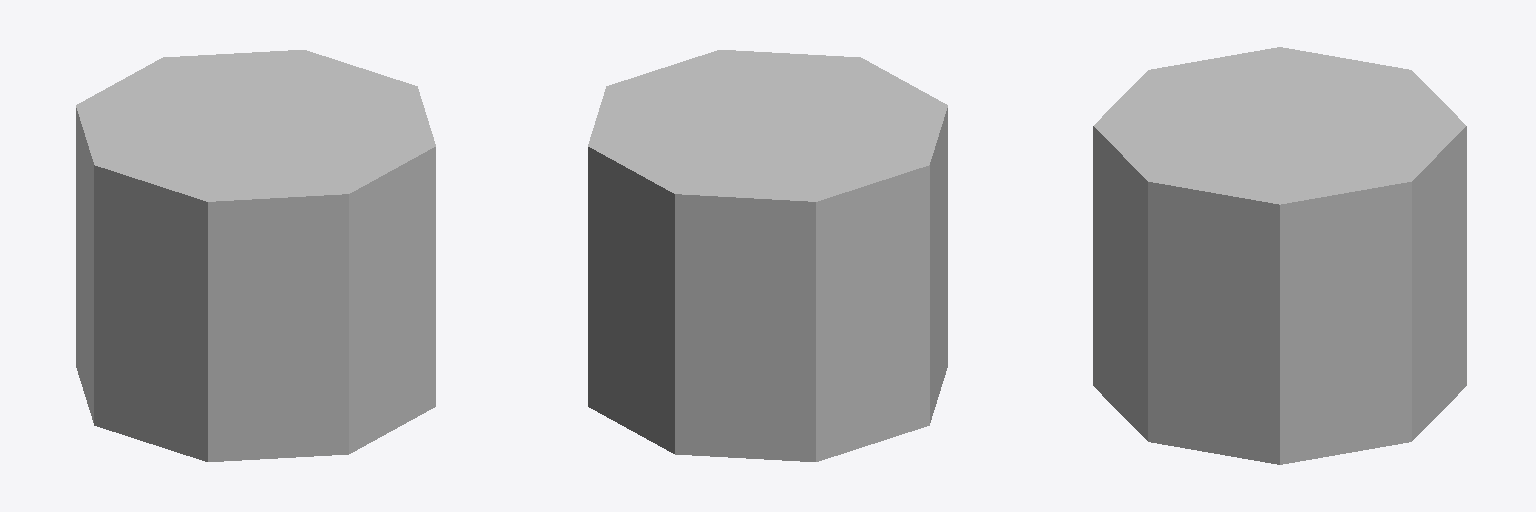
The model's file is SausagePizza.obj.
3 renders of one model, left to right at view 1: azimuth 30°, elevation 25°; view 2: azimuth 150°, elevation 25°; view 3: azimuth 270°, elevation 25°, orthographic.
Parts seen in each view (by area): view 1: SausagePizza; view 2: SausagePizza; view 3: SausagePizza.
Boxes of the visible parts, <box> form: SausagePizza: <box>76,50,435,461</box>; SausagePizza: <box>588,50,947,461</box>; SausagePizza: <box>1093,47,1466,464</box>.
Bounding box in the file's own units: 0.0663 × 0.0511 × 0.0663.